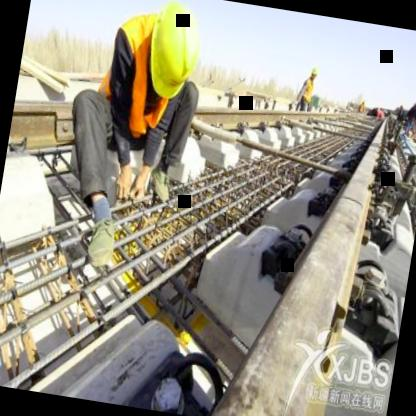helmet: (135, 0, 212, 107), (308, 64, 320, 82)
